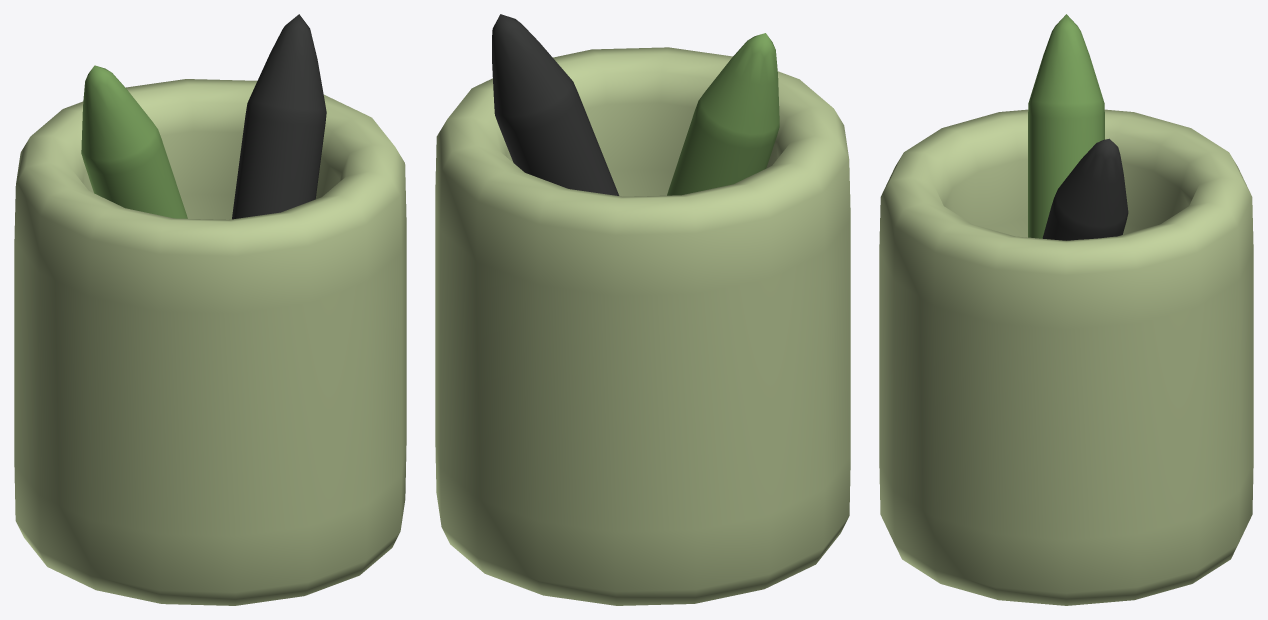
The model's file is penholder.glb.
3 renders of one model, left to right at view 1: azimuth 30°, elevation 25°; view 2: azimuth 150°, elevation 25°; view 3: azimuth 270°, elevation 25°, orthographic. The views are drawn at different scales.
Parts seen in each view (by area): view 1: PencilHolder; view 2: PencilHolder; view 3: PencilHolder.
Part boxes in pixels (<box>): PencilHolder: <box>14,14,406,605</box>; PencilHolder: <box>435,14,850,605</box>; PencilHolder: <box>879,14,1253,605</box>.
Bounding box in the file's own units: 0.4331 × 0.5977 × 0.4331.
Materials: 1 (1 with a texture image).
